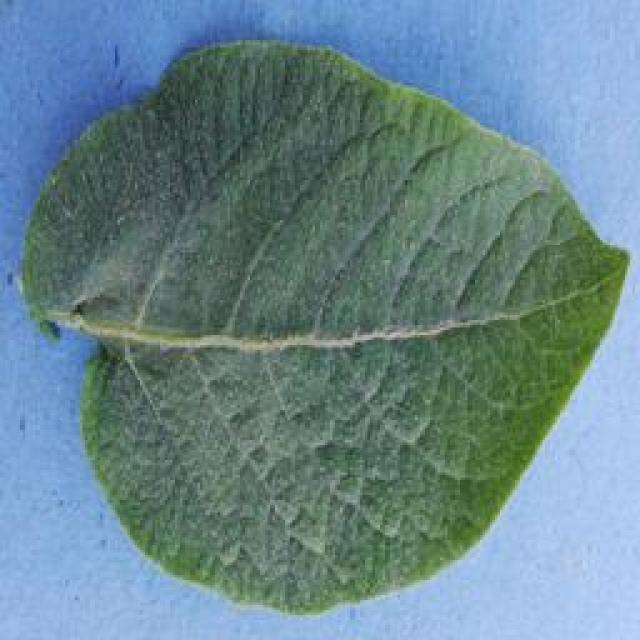Potato_Healthy: (21, 39, 623, 615)
